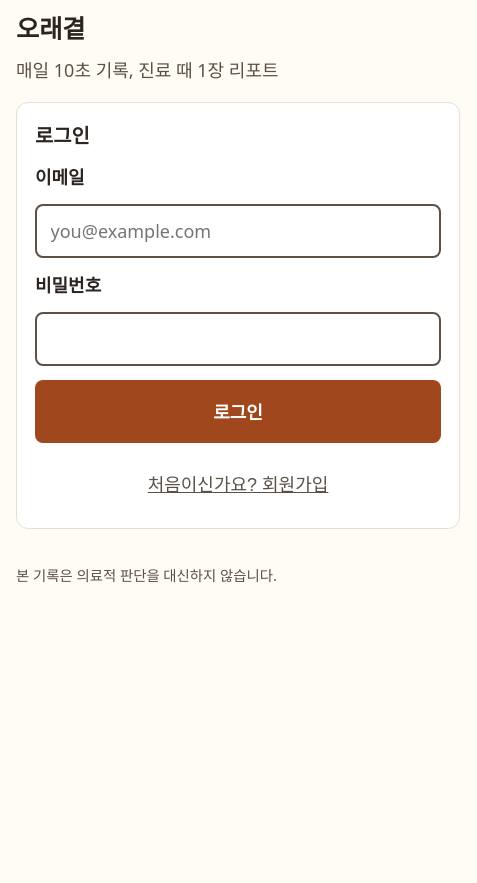
it: 가입 화면 — 만 14세 확인 › 체크하지 않고 제출하면 칸 오류를 보이고 가입 요청을 보내지 않는다
The width and height of the screenshot is (477, 883).
Click the button "처음이신가요? 회원가입" at (238, 484), box [35,456,441,510]
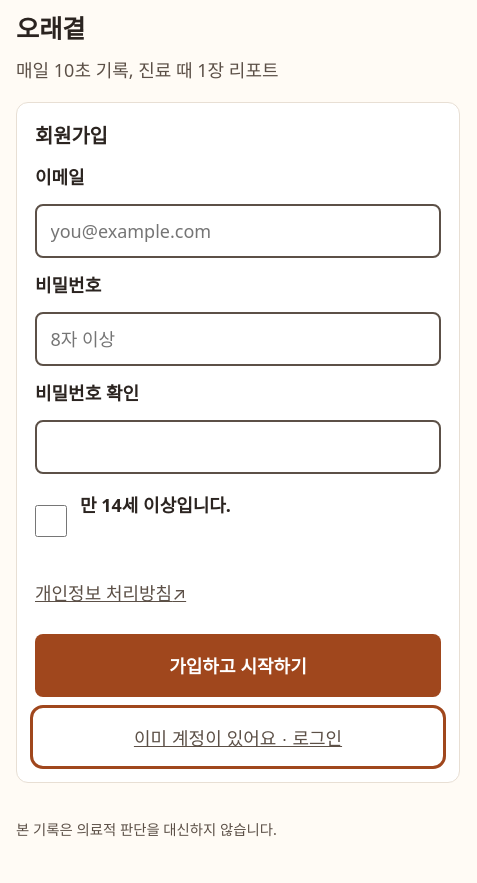
Type "n@b.c" into the field labelled "이메일" at (238, 232), box [35,204,441,258]
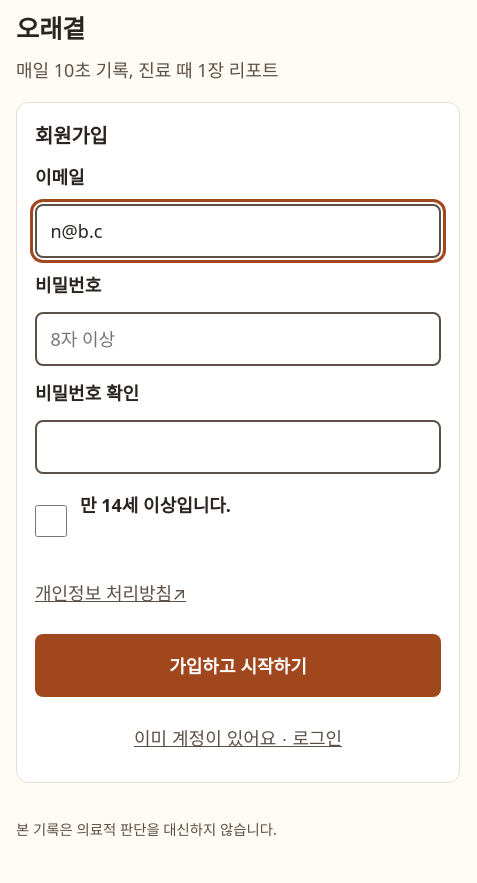
Type "pw123456" into the password field labelled "비밀번호" at (238, 340), box [35,312,441,366]
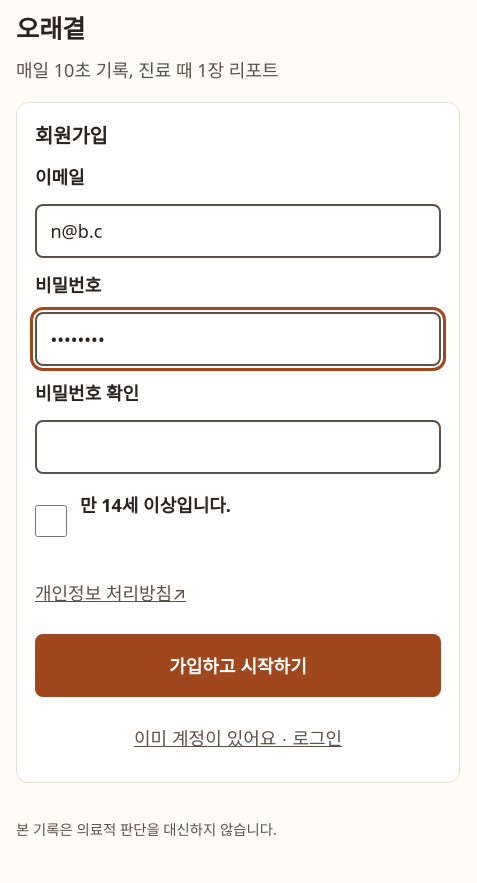
Type "pw123456" into the password field labelled "비밀번호 확인" at (238, 448), box [35,420,441,474]
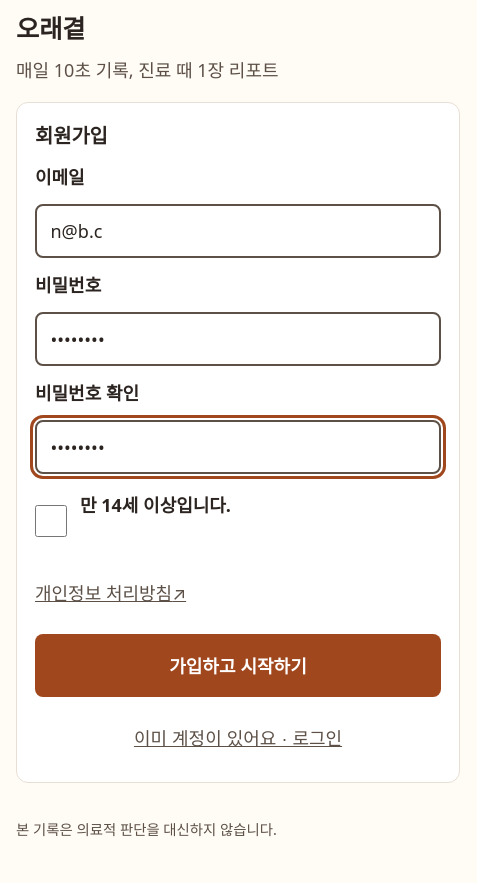
Click the button "가입하고 시작하기" at (238, 665), box [35,634,441,697]
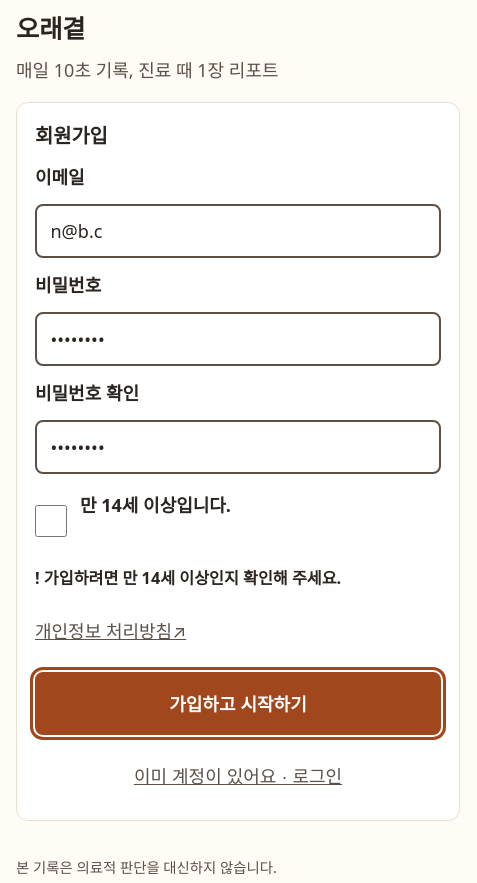
Expected: the text "가입하려면 만 14세 이상인지 확인해 주세요." is shown, [44,567,341,589]
